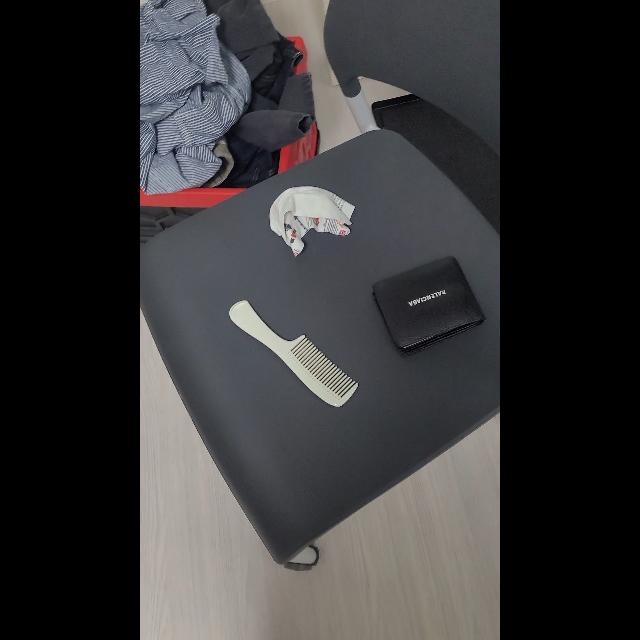COMB: (229, 300, 359, 408)
Glasses cleaning cloth: (269, 187, 355, 257)
WALLET: (372, 256, 486, 356)
